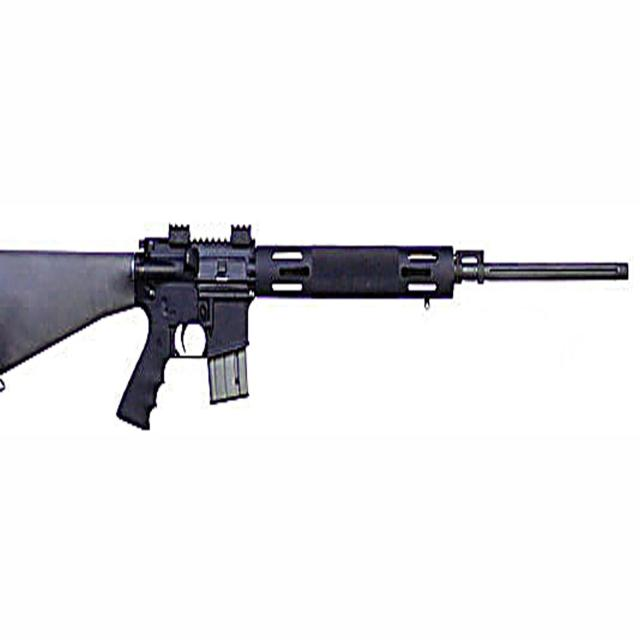Rifle: (0, 224, 632, 432)
